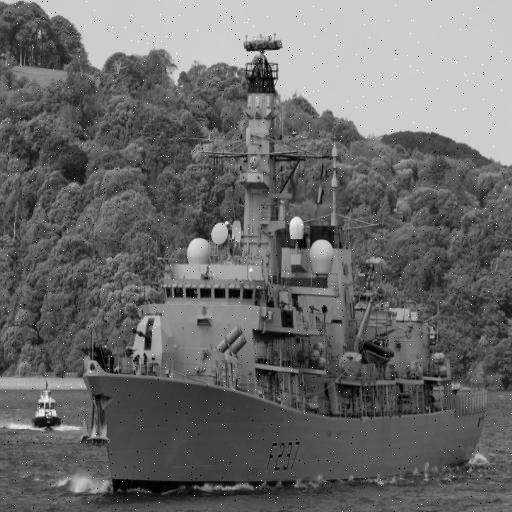Fragata: (82, 32, 490, 500)
